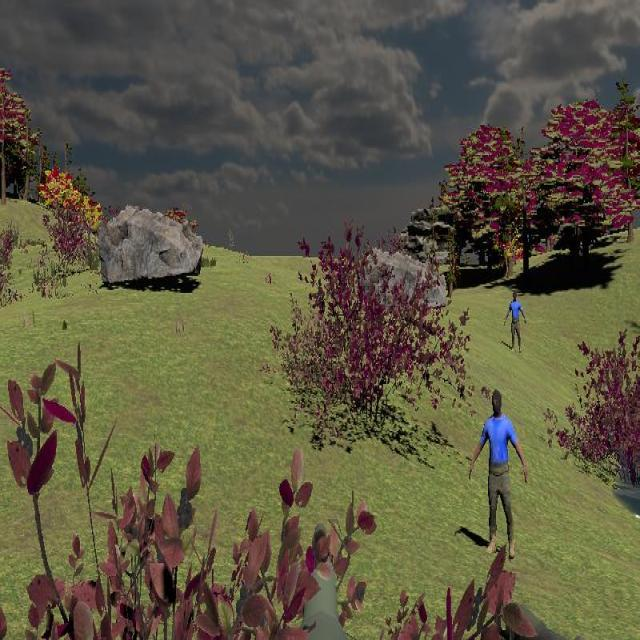Human: (468, 388, 528, 560), (504, 291, 527, 353)
